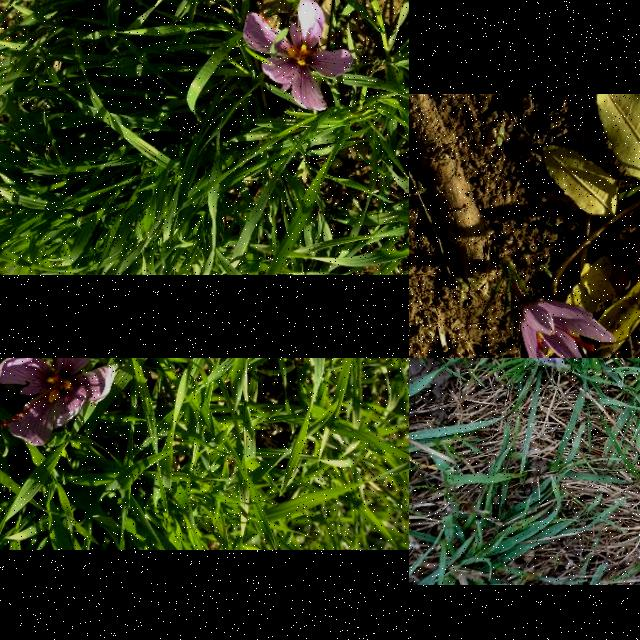flower: (242, 0, 353, 111), (0, 358, 114, 445), (521, 301, 616, 358)
